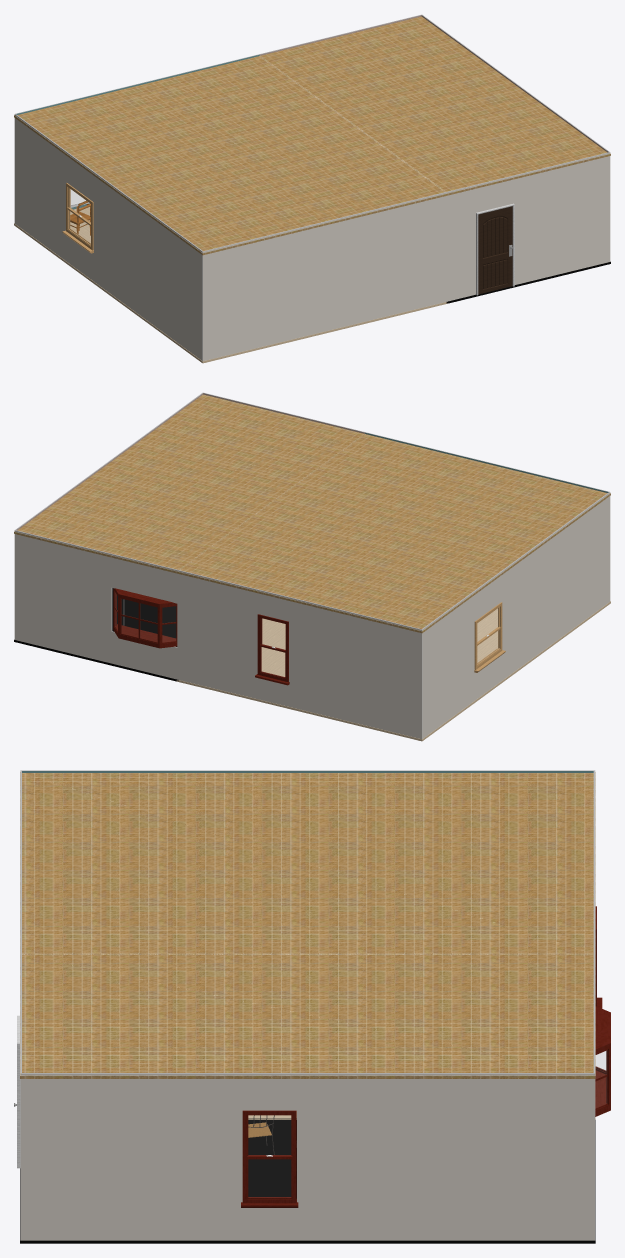
The model's file is ProcTHOR-Train-107.glb.
3 renders of one model, top to bottom at view 1: azimuth 30°, elevation 25°; view 2: azimuth 150°, elevation 25°; view 3: azimuth 270°, elevation 25°, orthographic. The views are drawn at different scales.
Parts seen in each view (by area): view 1: Ceiling#room|3|c, Ceiling#room|2|c, WallInside#wall|exterior|4.31|8.63|10.79|8.63, WallInside#wall|exterior|10.79|0.00|10.79|8.63, WallInside#wall|exterior|0.00|8.63|4.31|8.63, Doorway_9, Floor#room|3|f, Window_Hung_48x44, WallInside#wall|3|4.31|0.00|10.79|0.00; view 2: Ceiling#room|3|c, Ceiling#room|2|c, WallInside#wall|exterior|4.31|0.00|10.79|0.00, WallInside#wall|exterior|10.79|0.00|10.79|8.63, WallInside#wall|exterior|0.00|0.00|4.31|0.00, Floor#room|3|f, Window_Bay_2, Floor#room|2|f, Window_Hung_32x60, Window_Hung_48x44, WallInside#wall|3|4.31|8.63|10.79|8.63; view 3: Ceiling#room|3|c, WallInside#wall|exterior|0.00|0.00|0.00|8.63, Ceiling#room|2|c, Floor#room|2|f, Window_Hung_32x60, WallInside#wall|3|10.79|0.00|10.79|8.63, Window_Bay_2.
Boxes of the visible parts, left/top/right/bottom form: Ceiling#room|3|c: left=14, top=56, right=448, bottom=255; Ceiling#room|2|c: left=259, top=16, right=610, bottom=195; WallInside#wall|exterior|4.31|8.63|10.79|8.63: left=203, top=192, right=447, bottom=361; WallInside#wall|exterior|10.79|0.00|10.79|8.63: left=14, top=114, right=202, bottom=360; WallInside#wall|exterior|0.00|8.63|4.31|8.63: left=447, top=152, right=610, bottom=301; Doorway_9: left=476, top=203, right=514, bottom=295; Floor#room|3|f: left=14, top=207, right=448, bottom=363; Window_Hung_48x44: left=62, top=183, right=93, bottom=253; WallInside#wall|3|4.31|0.00|10.79|0.00: left=16, top=54, right=259, bottom=209; Ceiling#room|3|c: left=177, top=434, right=610, bottom=633; Ceiling#room|2|c: left=14, top=394, right=365, bottom=573; WallInside#wall|exterior|4.31|0.00|10.79|0.00: left=177, top=570, right=421, bottom=739; WallInside#wall|exterior|10.79|0.00|10.79|8.63: left=422, top=492, right=610, bottom=738; WallInside#wall|exterior|0.00|0.00|4.31|0.00: left=14, top=530, right=177, bottom=679; Floor#room|3|f: left=176, top=601, right=610, bottom=741; Window_Bay_2: left=113, top=588, right=177, bottom=648; Floor#room|2|f: left=14, top=599, right=178, bottom=681; Window_Hung_32x60: left=255, top=614, right=289, bottom=685; Window_Hung_48x44: left=474, top=602, right=505, bottom=672; WallInside#wall|3|4.31|8.63|10.79|8.63: left=365, top=432, right=608, bottom=492; Ceiling#room|3|c: left=20, top=772, right=595, bottom=954; WallInside#wall|exterior|0.00|0.00|0.00|8.63: left=20, top=1073, right=594, bottom=1240; Ceiling#room|2|c: left=20, top=953, right=595, bottom=1078; Floor#room|2|f: left=20, top=1118, right=595, bottom=1243; Window_Hung_32x60: left=241, top=1110, right=298, bottom=1207; WallInside#wall|3|10.79|0.00|10.79|8.63: left=22, top=770, right=594, bottom=772; Window_Bay_2: left=595, top=1006, right=610, bottom=1116.
Size of what is drawn, in the model's own units: 11.03 by 2.83 by 8.99.
163 materials, 76 textured.
